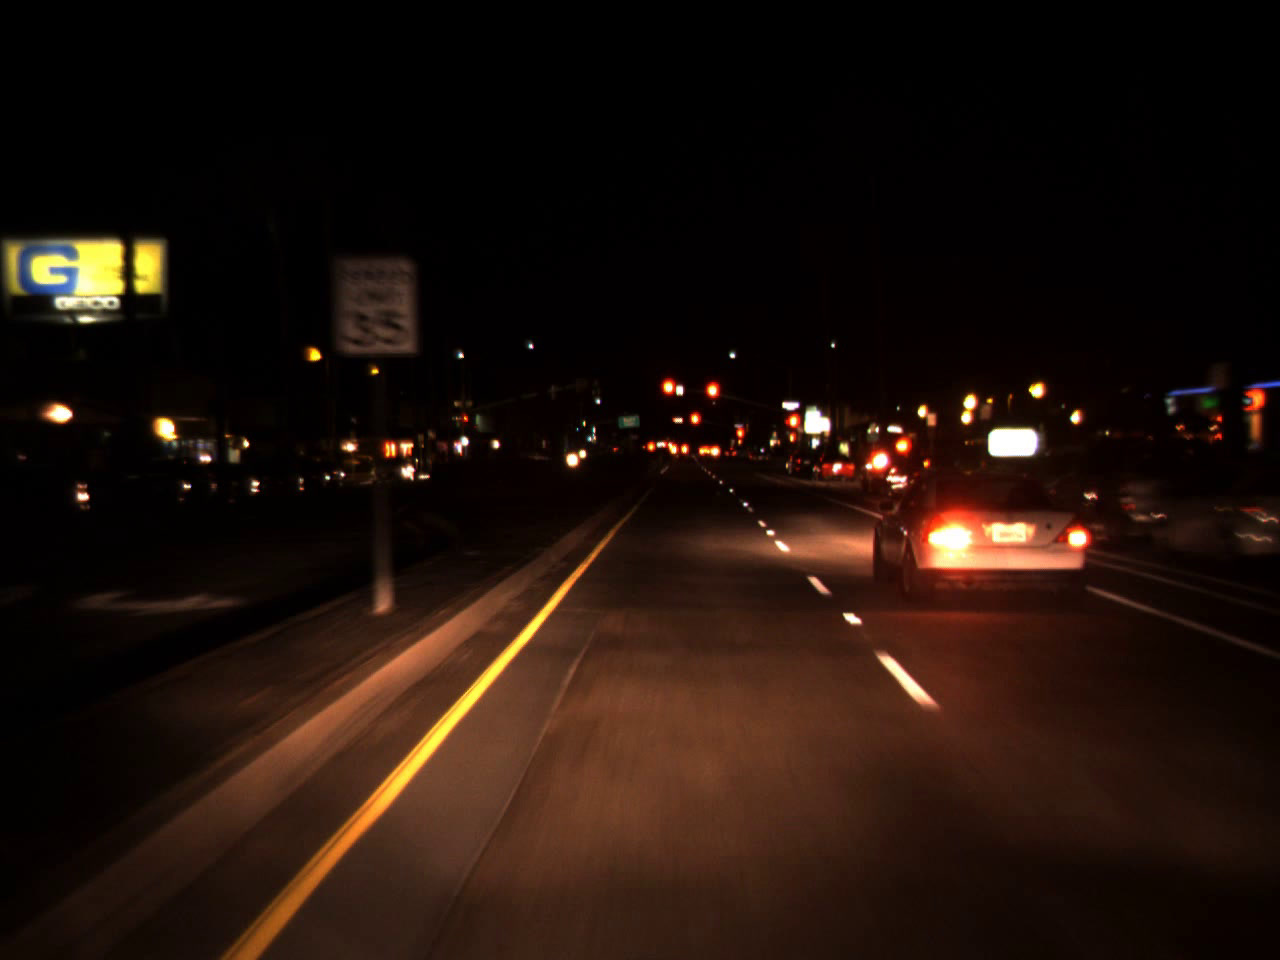stop: (782, 410, 803, 447), (704, 379, 722, 419), (659, 376, 678, 413), (687, 410, 703, 439), (735, 425, 745, 452), (462, 415, 468, 425)
